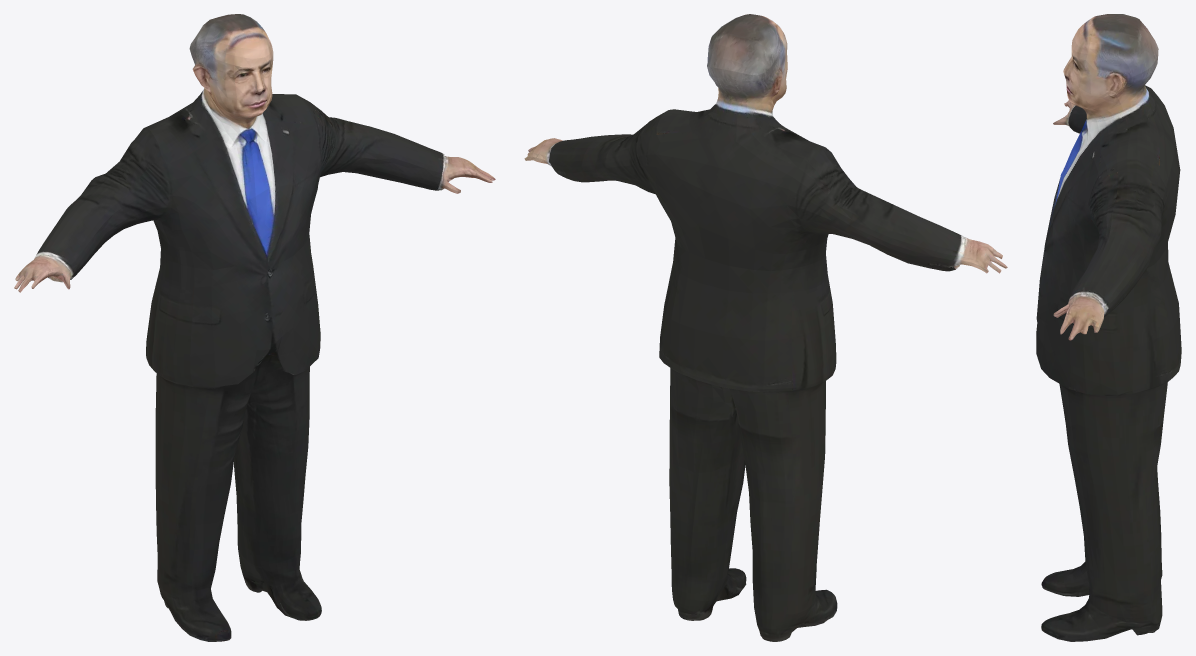
The model's file is netanyahu.glb.
The picture shows the model from 3 angles, left to right: view 1: azimuth 30°, elevation 25°; view 2: azimuth 150°, elevation 25°; view 3: azimuth 270°, elevation 25°; orthographic projection.
Visible parts, largest first — view 1: Benjamin_Netanyahu; view 2: Benjamin_Netanyahu; view 3: Benjamin_Netanyahu.
Part boxes in pixels (left/top/right/bottom): Benjamin_Netanyahu: left=14, top=14, right=495, bottom=641; Benjamin_Netanyahu: left=524, top=14, right=1007, bottom=641; Benjamin_Netanyahu: left=1036, top=14, right=1181, bottom=641.
Bounding box in the file's own units: 1.69 × 2 × 0.4437.
1 material, 1 textured.
